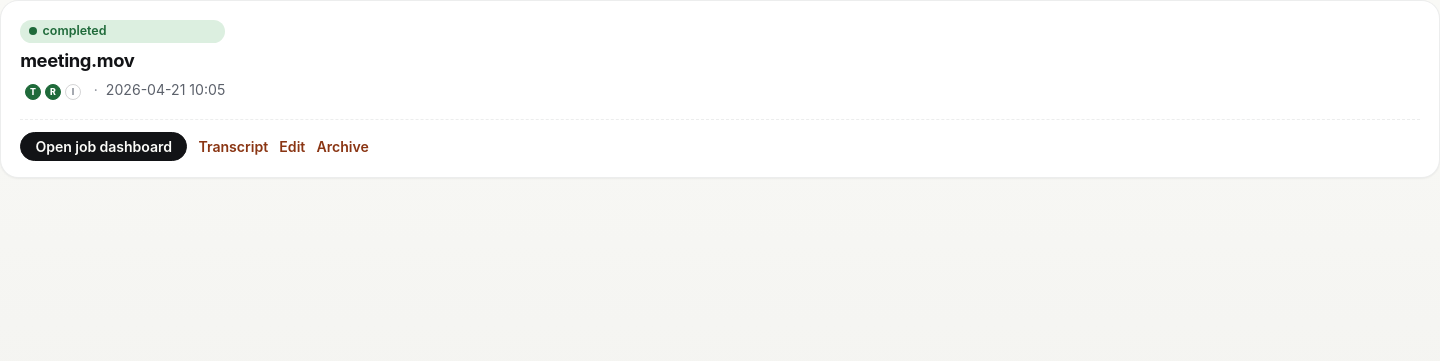
Test: JobCard library organization › surfaces the server error when saving metadata fails
This screenshot has width=1440, height=361.
Click the button "Edit": (292, 147) [279,136,305,158]
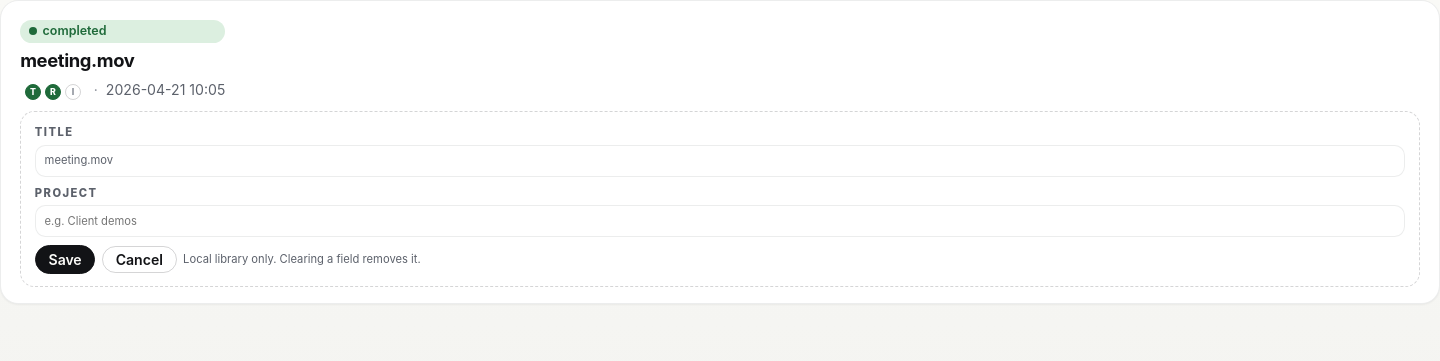
Click the button "Save": (65, 260) [35,246,96,274]
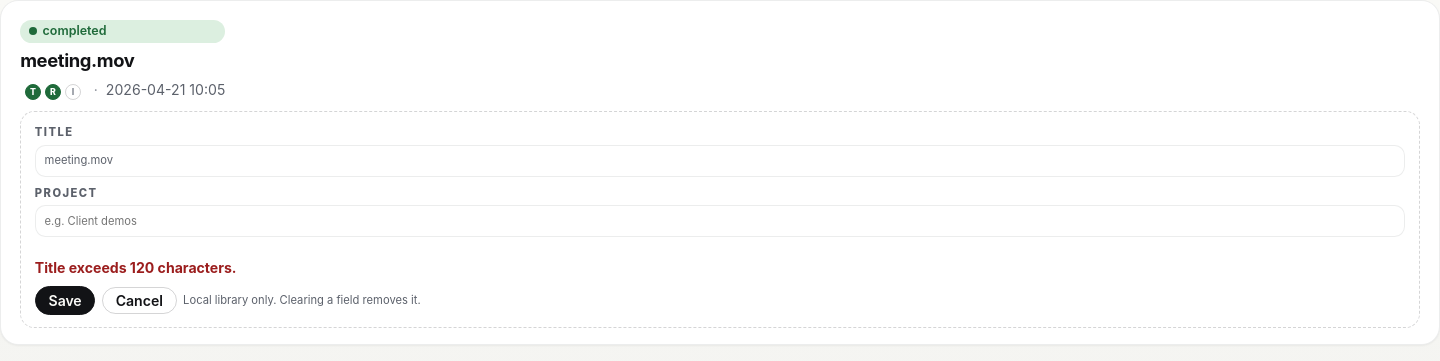
Now the text "Title exceeds 120 characters." is shown, box [35,259,237,276]
